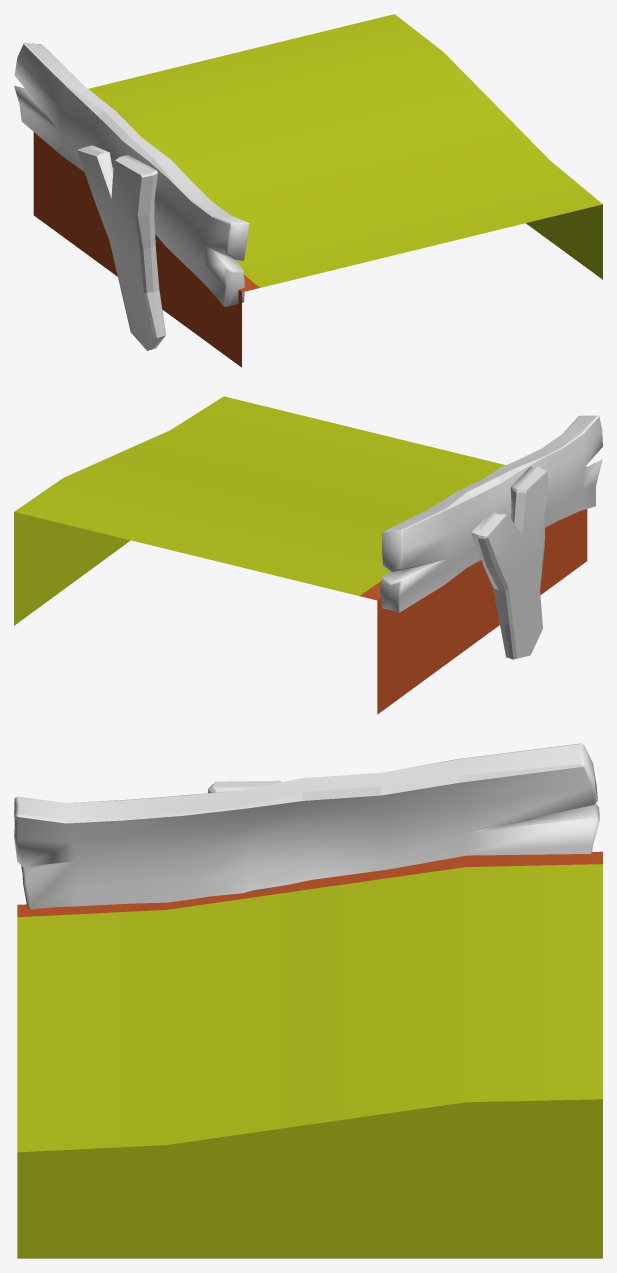
The model's file is SB_Straight_Up_Begin_End03.fbx.
The picture shows the model from 3 angles, top to bottom: view 1: azimuth 30°, elevation 25°; view 2: azimuth 150°, elevation 25°; view 3: azimuth 270°, elevation 25°; orthographic projection. The views are drawn at different scales.
Visible parts, largest first — view 1: Cube.001, Cube.002; view 2: Cube.001, Cube.002; view 3: Cube.001, Cube.002.
Boxes of the visible parts, <box> form: Cube.001: <box>33,14,602,367</box>; Cube.002: <box>14,43,249,350</box>; Cube.001: <box>14,396,587,714</box>; Cube.002: <box>379,415,602,659</box>; Cube.001: <box>17,851,602,1258</box>; Cube.002: <box>14,743,599,909</box>.
Size of the model in its own units: 219 by 114 by 201.
